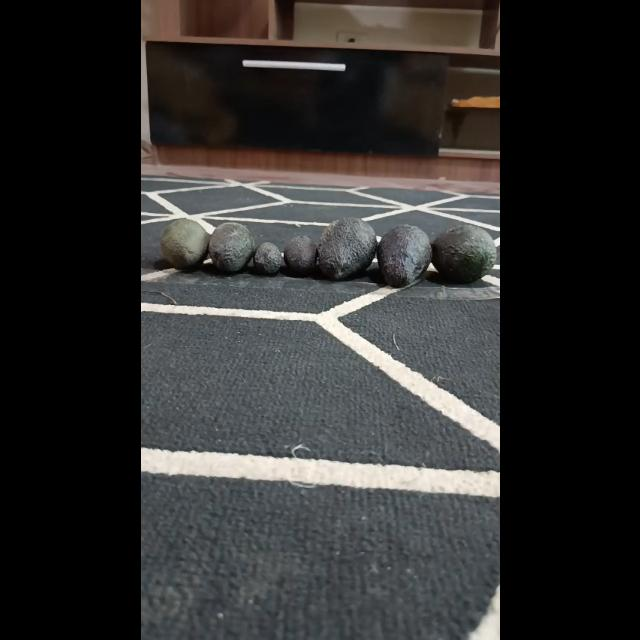Primera: (430, 224, 496, 284), (316, 217, 376, 281), (376, 224, 432, 288)
Segunda: (160, 218, 208, 270), (208, 222, 255, 272)
Tercera: (282, 235, 318, 275), (252, 242, 282, 274)
